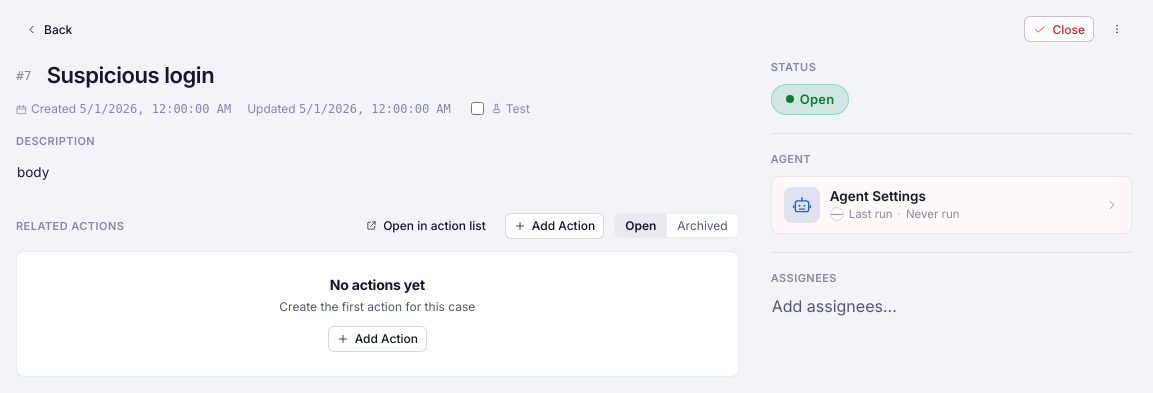
CaseDetail archive controls › offers neither item on an open case
This screenshot has width=1153, height=393.
Expected: the text "Suspicious login" is shown, 47,61 -> 214,90
Click the button with test id "case-menu-button".
click(1117, 29)  # box 1102,16 -> 1132,42
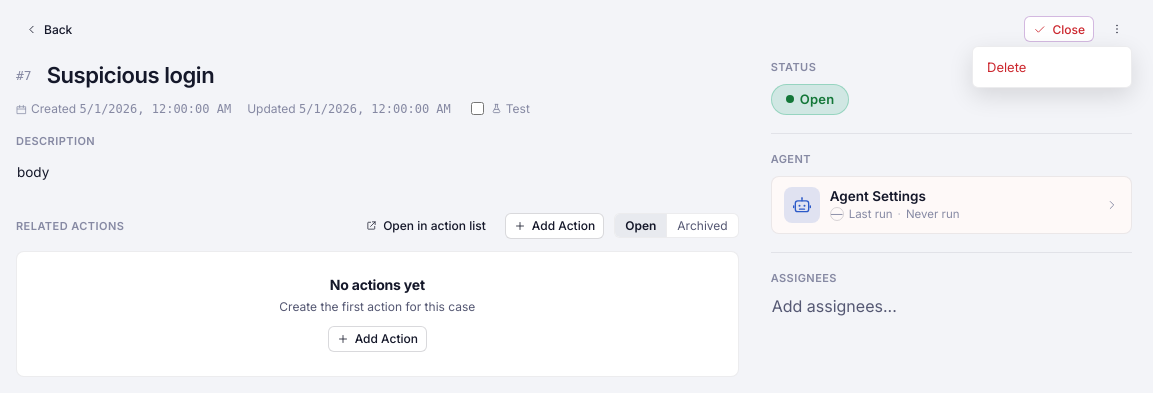
Result: the button with test id "case-delete-menu-item" is shown at 977,51 -> 1127,83
